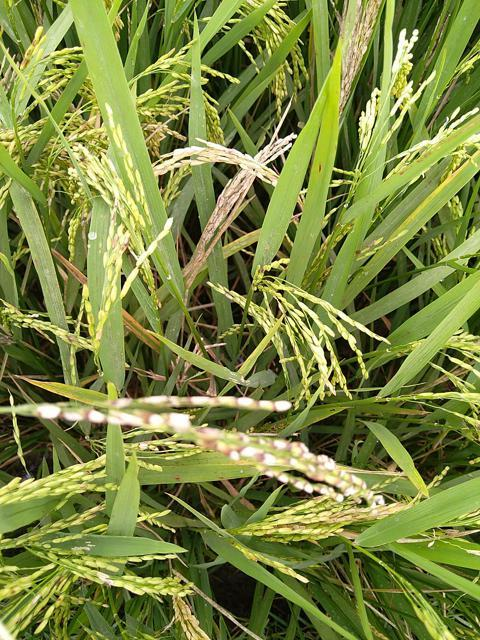Panicle Blight: (196, 427, 382, 506), (34, 404, 190, 430), (112, 395, 293, 412), (264, 470, 344, 503), (329, 503, 405, 522), (19, 38, 35, 71), (80, 504, 104, 520), (93, 571, 114, 587), (110, 198, 119, 227), (52, 576, 67, 591), (273, 524, 305, 531), (32, 591, 43, 605), (66, 333, 78, 343), (7, 587, 20, 596), (368, 239, 381, 247), (249, 553, 259, 562), (279, 567, 292, 573), (112, 238, 119, 248), (55, 595, 63, 602), (121, 244, 127, 252)
